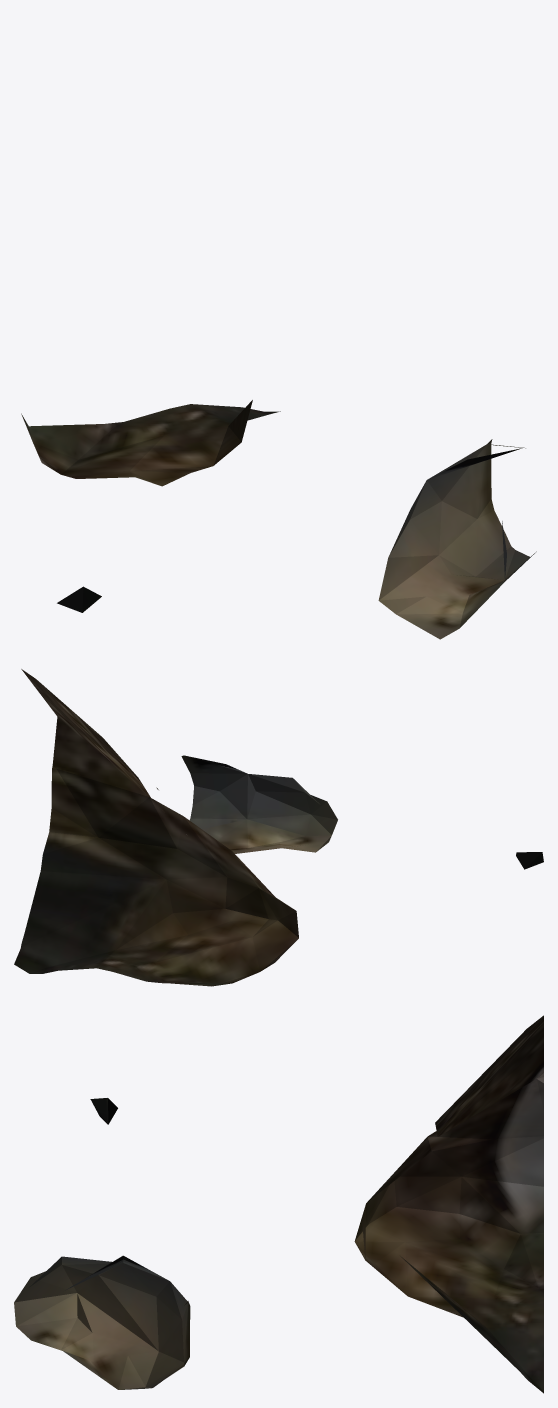
The picture shows the model from 3 angles, top to bottom: view 1: azimuth 30°, elevation 25°; view 2: azimuth 150°, elevation 25°; view 3: azimuth 270°, elevation 25°; orthographic projection. The views are drawn at different scales.
Size of the model in its own units: 1.45 by 1.16 by 1.49.
Materials: 1 (1 with a texture image).
